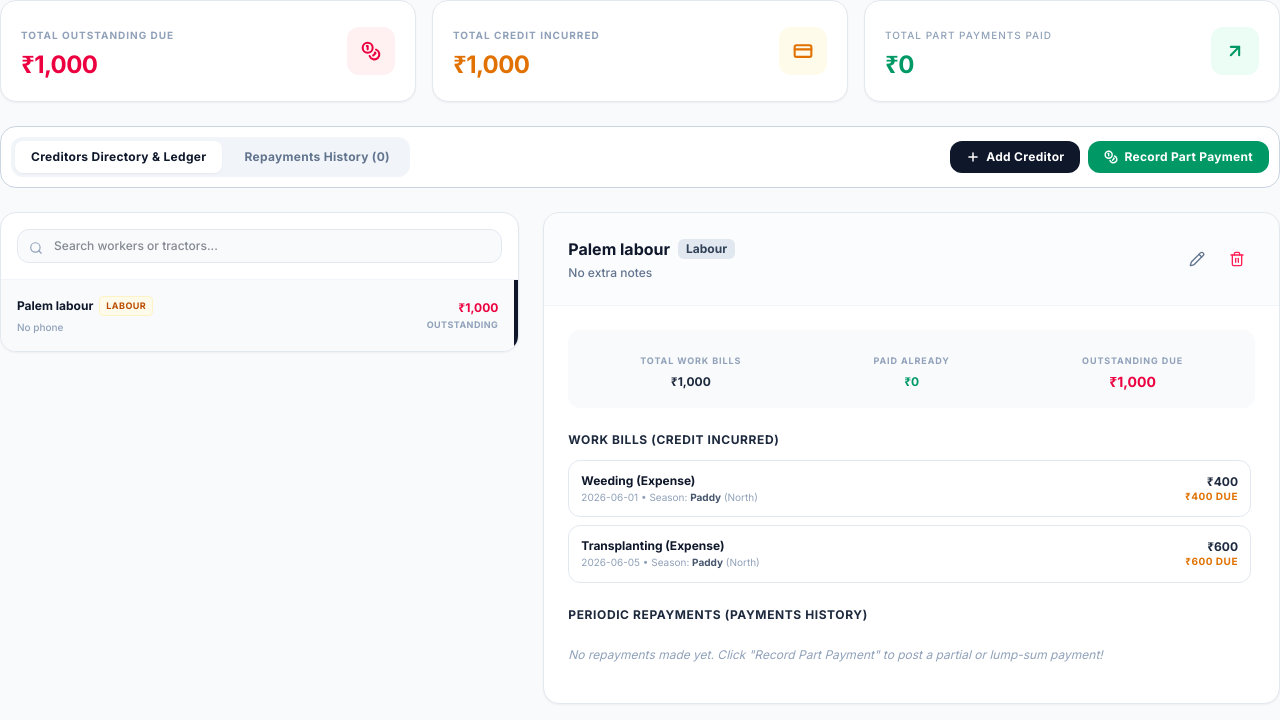
Scenario: Credits tab: choosing which bills a payment settles › lists the unpaid bills with what each still owes
The image size is (1280, 720).
Click the button "Record Part Payment": {"x": 1179, "y": 157} [1088,141,1269,173]
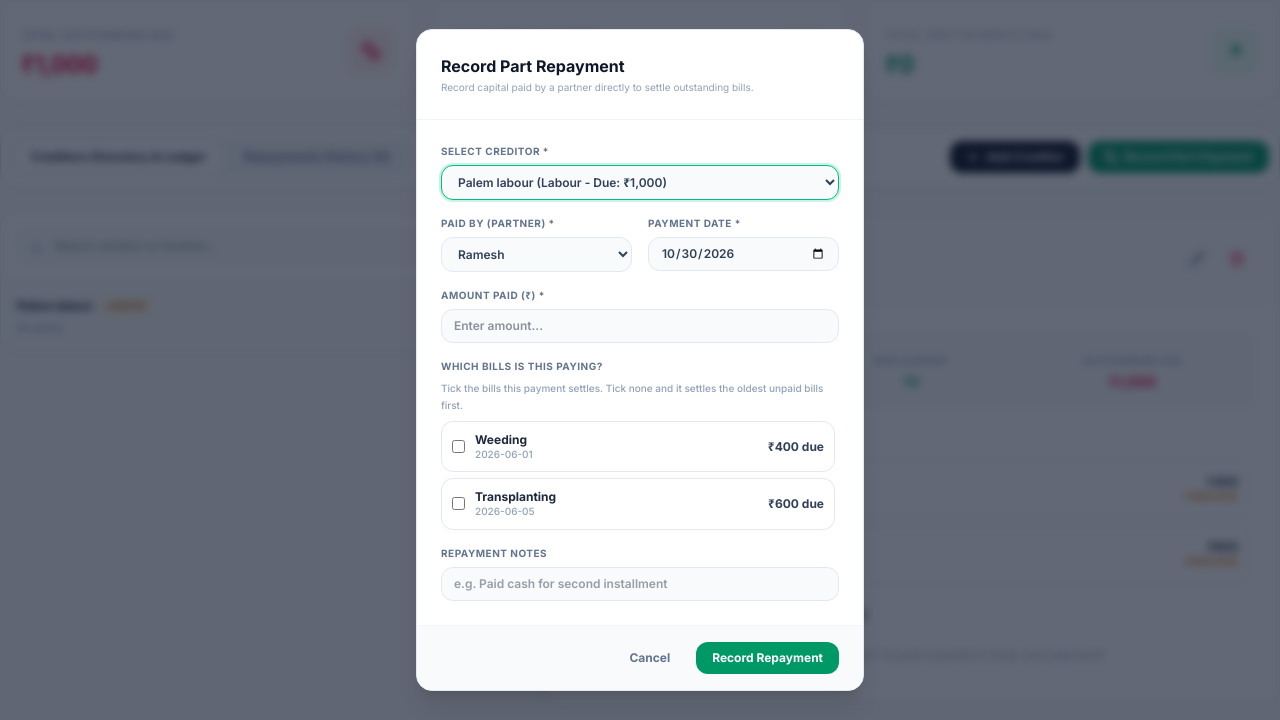
Result: the checkbox labelled "Weeding 2026-06-01 ₹400 due" is shown at [452,440,465,453]
Result: the text "₹400 due" is shown at [768,439,824,455]
Result: the text "₹600 due" is shown at [768,496,824,512]
